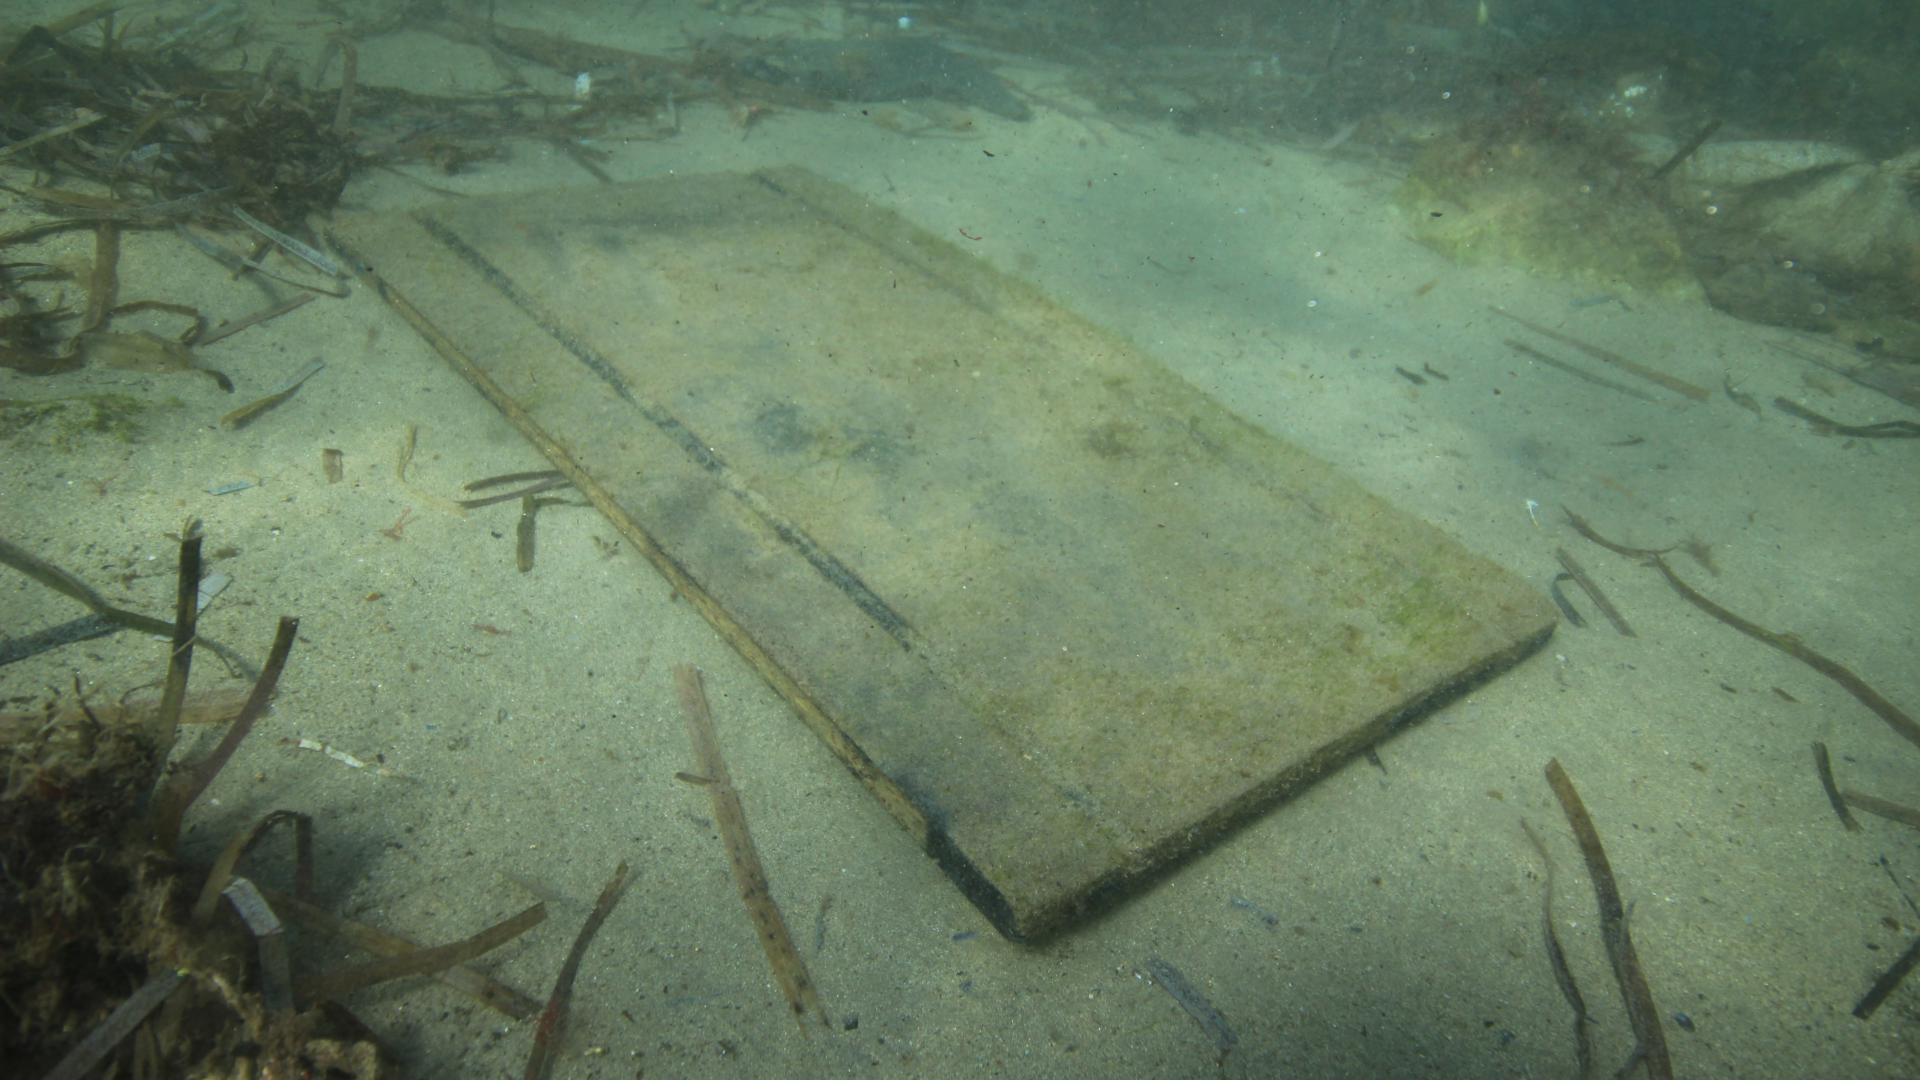wood: (324, 162, 1559, 943)
